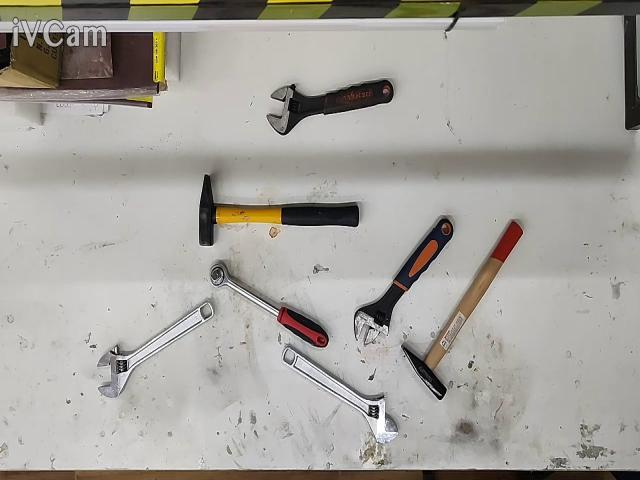Adjustable spanner: (353, 218, 454, 345), (98, 302, 214, 398), (282, 347, 398, 442), (268, 80, 394, 134)
Hammer: (402, 220, 522, 399), (199, 175, 359, 246)
Ratchet: (209, 263, 329, 348)
